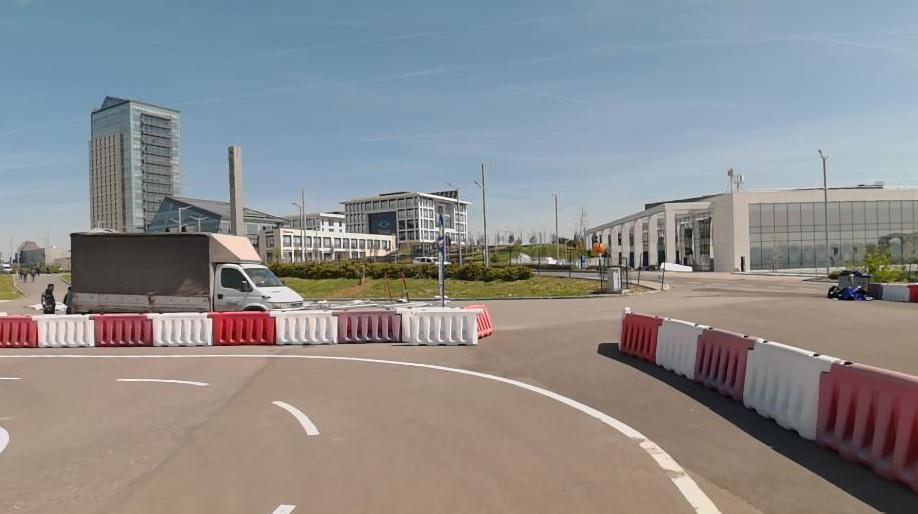nesne: (0, 354, 721, 513), (0, 353, 719, 512), (2, 354, 720, 513), (0, 376, 318, 514), (70, 232, 308, 311), (818, 359, 917, 493), (742, 339, 837, 442), (695, 328, 757, 402), (655, 319, 710, 380), (398, 309, 484, 344), (334, 309, 401, 343), (209, 311, 275, 345), (270, 311, 338, 344), (150, 311, 213, 346), (90, 313, 152, 346), (34, 314, 95, 347), (619, 311, 662, 357), (271, 401, 317, 435), (1, 316, 38, 346), (467, 303, 495, 337), (121, 377, 206, 385), (0, 426, 9, 452), (272, 504, 295, 513), (2, 376, 18, 380)
